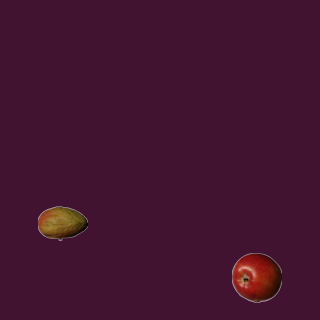Apple Braeburn: (231, 252, 281, 302)
Papaya: (37, 198, 87, 248)
